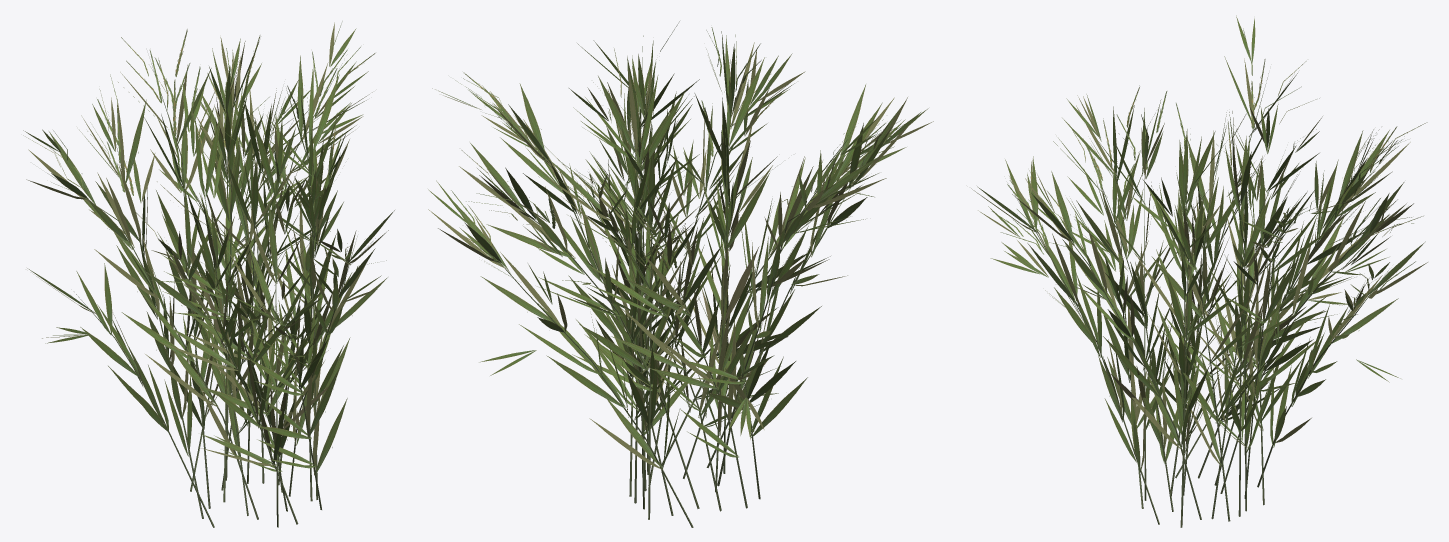
Rendered from arden_forest_wheat_01.fbx.
3 views of the same model, side by side, from view 1: azimuth 30°, elevation 25°; view 2: azimuth 150°, elevation 25°; view 3: azimuth 270°, elevation 25° (orthographic). The views are drawn at different scales.
Parts seen in each view (by area): view 1: arden_forest_wheat_01; view 2: arden_forest_wheat_01; view 3: arden_forest_wheat_01.
Part boxes in pixels (bbox=[...]): arden_forest_wheat_01: bbox=[23, 21, 394, 527]; arden_forest_wheat_01: bbox=[428, 21, 933, 527]; arden_forest_wheat_01: bbox=[971, 15, 1427, 527].
Size of the model in its own units: 1.77 by 1.96 by 1.91.
